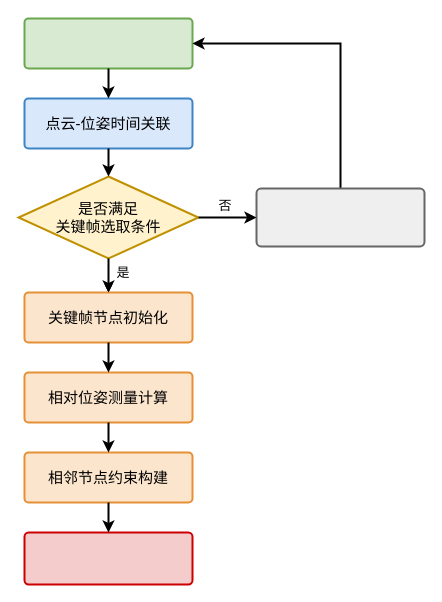
Some shapes in this 442 by 602 pixel diagram are drawn without their labels. The shapes that lost their labels are listed below. From the top down, each one's centre as x and y in pixels, then its label:
At point 108,43: "点云观测与外部位姿".
At point 340,217: "非关键帧 转入下一帧处理".
At point 108,558: "基础位姿图生成".
